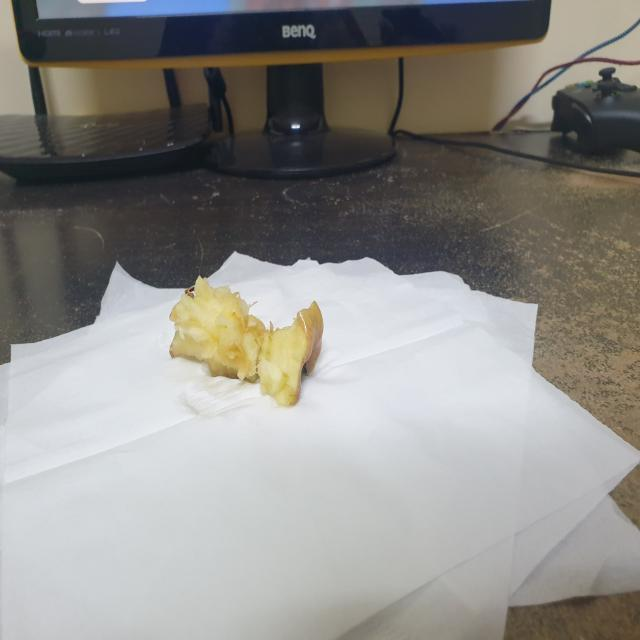apple: (162, 276, 330, 412)
